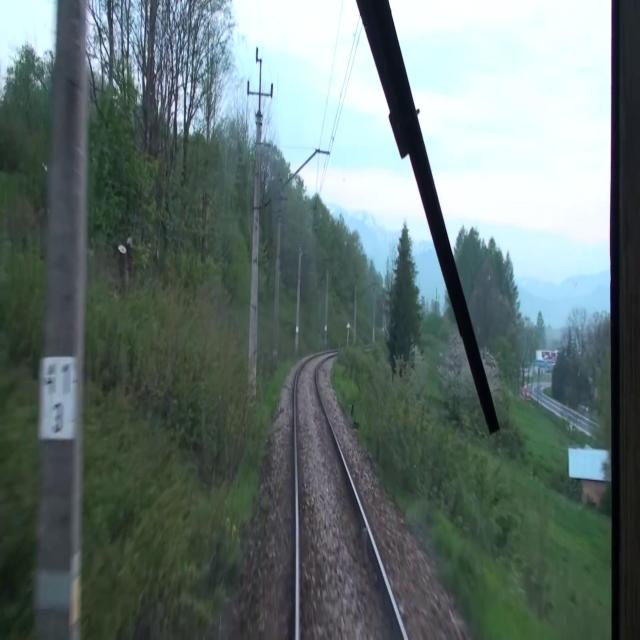rail-track: (297, 357, 403, 639)
